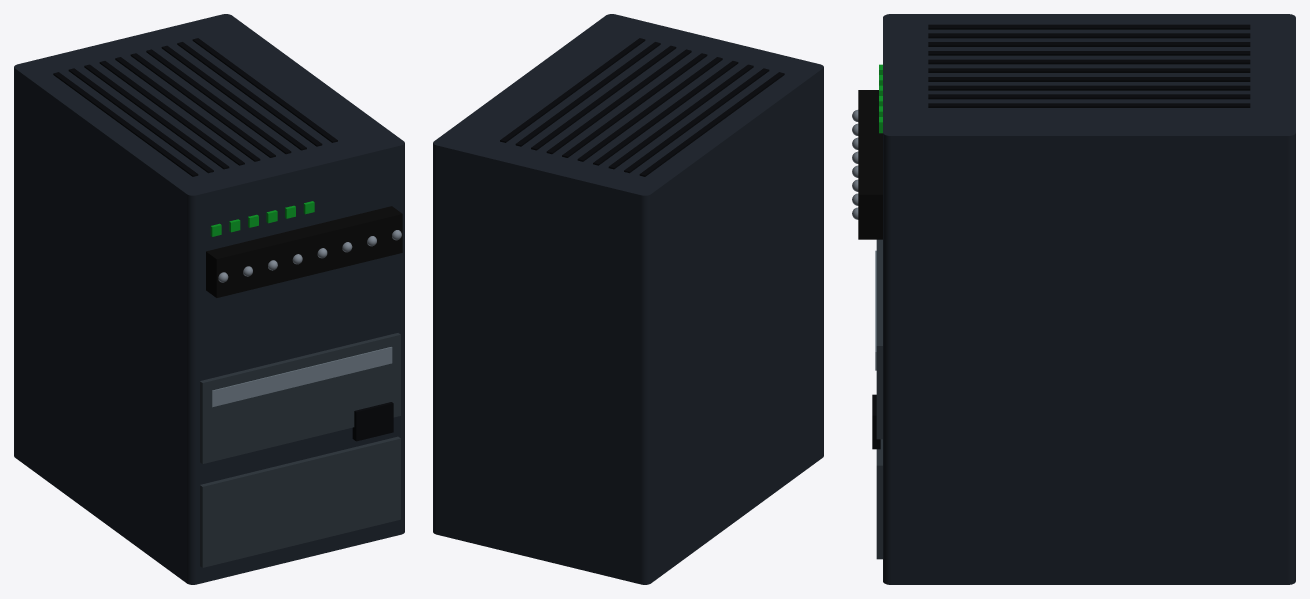
File: din_module.glb
3 views of the same model, side by side, from view 1: azimuth 30°, elevation 25°; view 2: azimuth 150°, elevation 25°; view 3: azimuth 270°, elevation 25° (orthographic). The views are drawn at different scales.
Visible parts, largest first — view 1: din_module; view 2: din_module; view 3: din_module.
Boxes of the visible parts, <box> form: din_module: <box>14,14,404,584</box>; din_module: <box>433,14,823,584</box>; din_module: <box>852,14,1295,584</box>.
Size of the model in its own units: 0.07 by 0.1205 by 0.1075.
